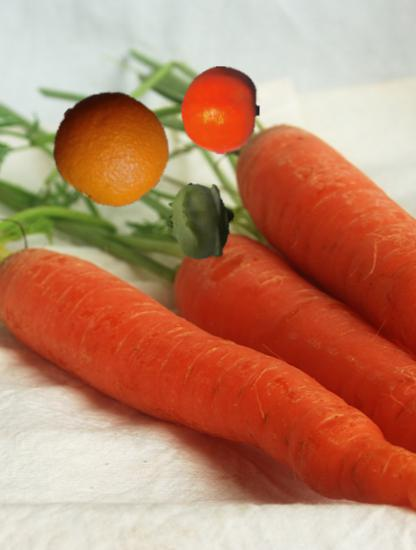Clementine: (176, 66, 265, 155)
Kohlrabi: (160, 181, 241, 262)
Orange: (53, 90, 170, 207)
